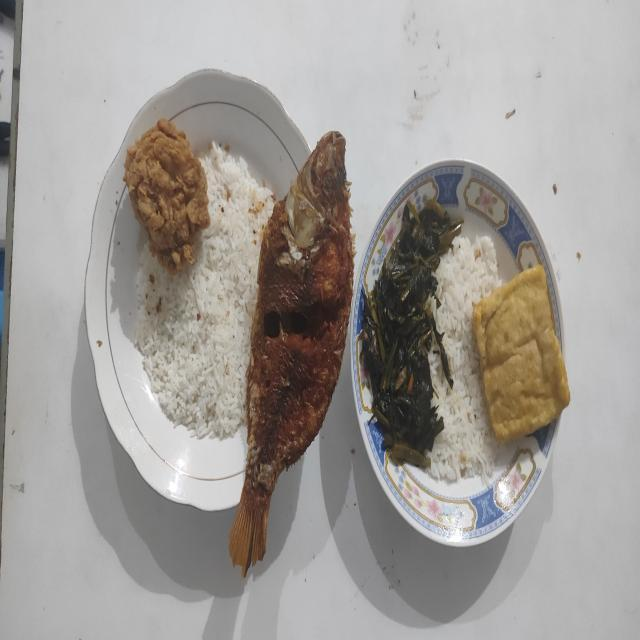ikan_mujair: (230, 131, 355, 576)
nasi_putih: (135, 146, 274, 440), (429, 236, 501, 481)
tahu_goreng: (473, 264, 570, 443)
tumis_kangkung: (359, 200, 464, 468)
